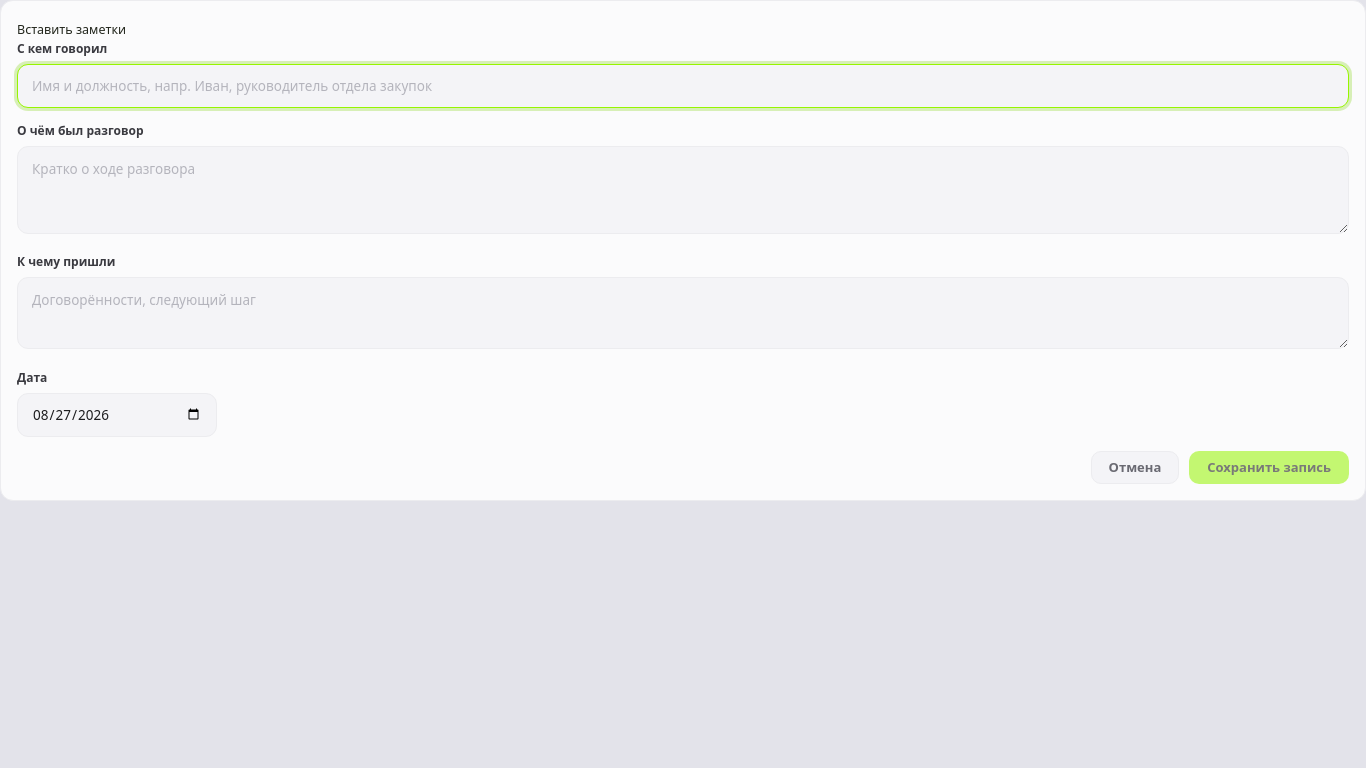
Test case: CallLogForm › voice memo recording (39.15) › records, transcribes, and lands the transcript in the raw-notes textarea
Click the button "Вставить заметки" at (72, 30), box [17, 21, 126, 40]
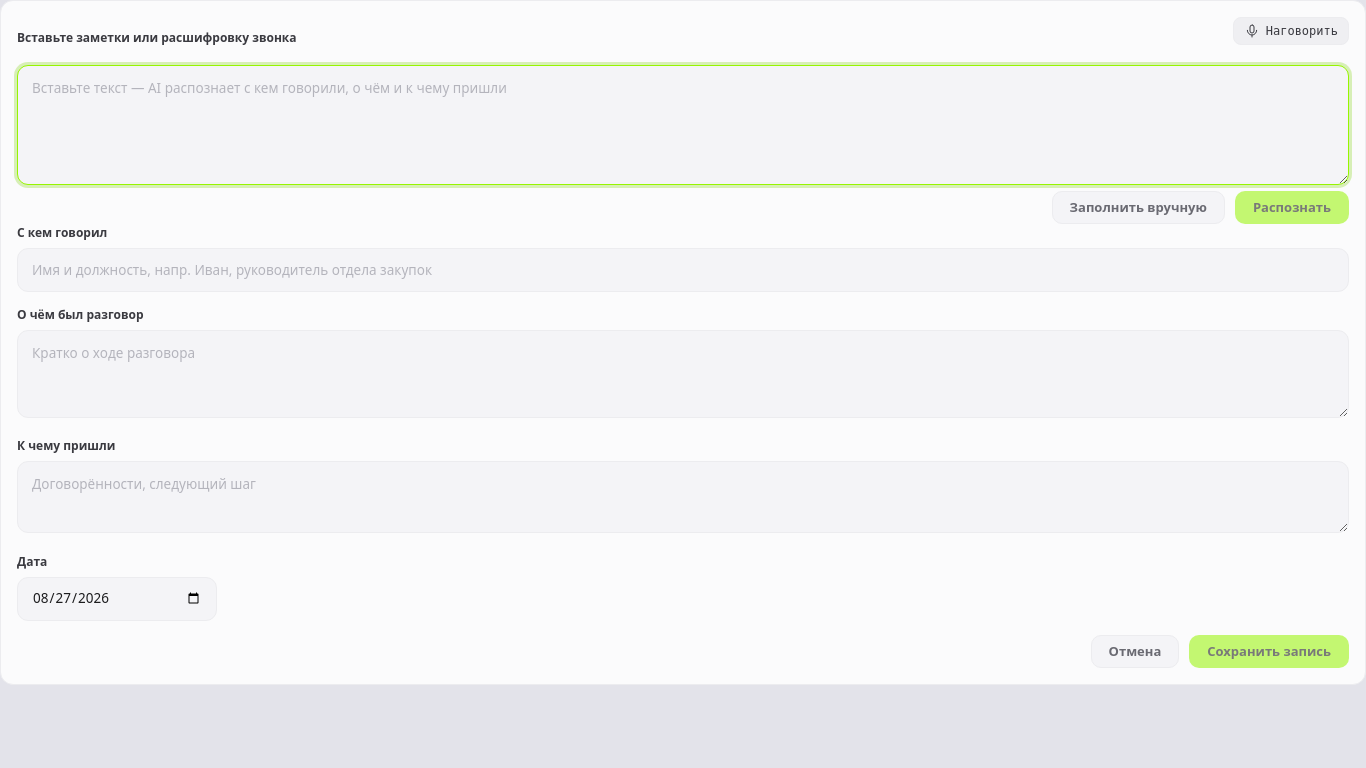
Click the button with aria-label "Наговорить заметку" at (1291, 31), box [1233, 17, 1349, 45]
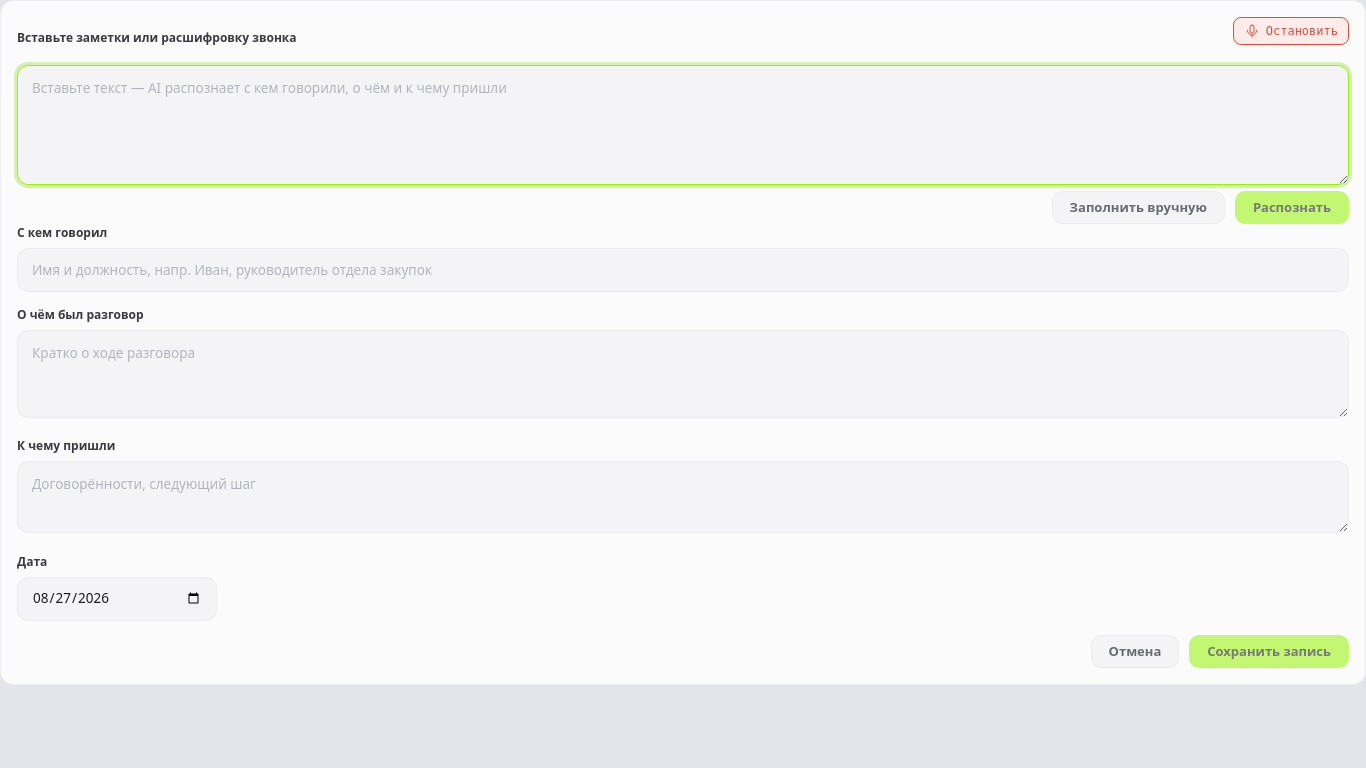
Result: the button with aria-label "Остановить запись" is shown
Click the button with aria-label "Остановить запись" at (1291, 31), box [1233, 17, 1349, 45]
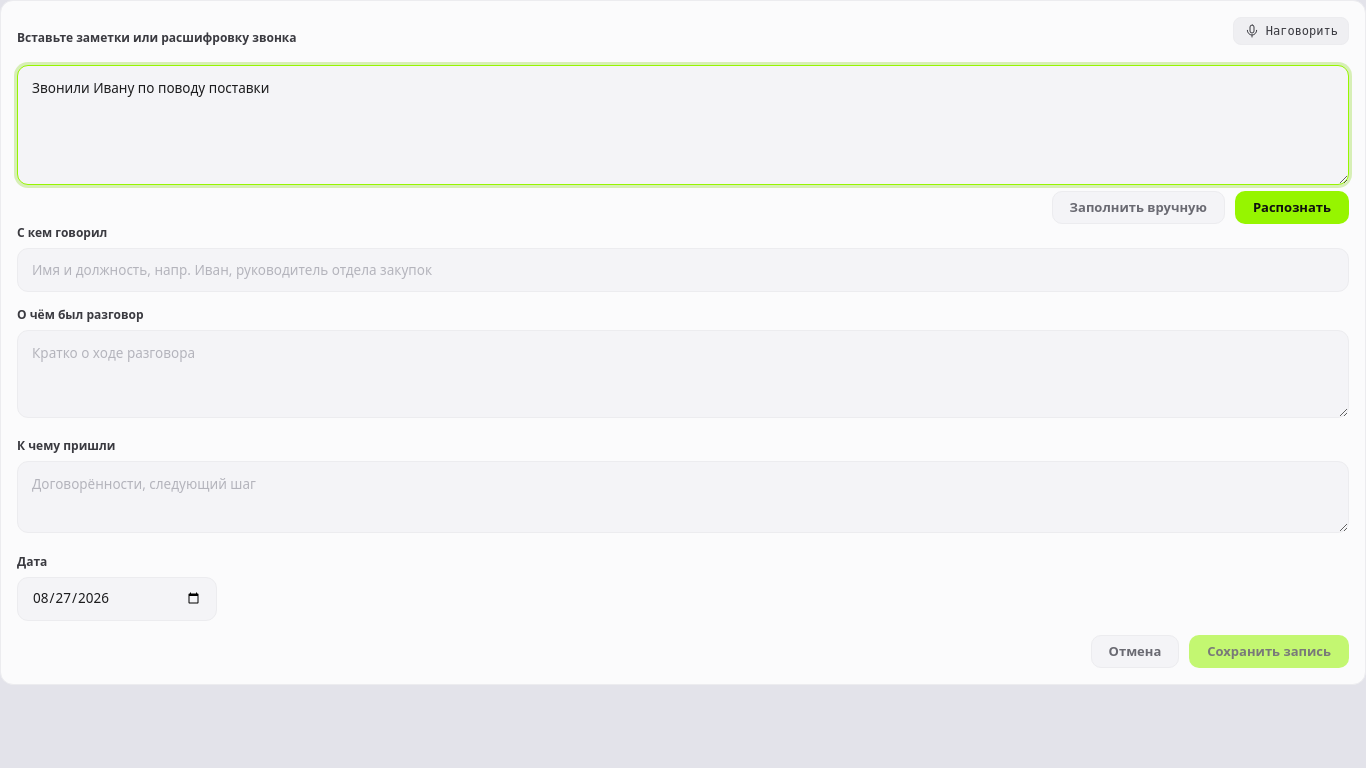
Result: the text box showing "Звонили Ивану по поводу поставки" is shown at [17, 65, 1349, 185]
